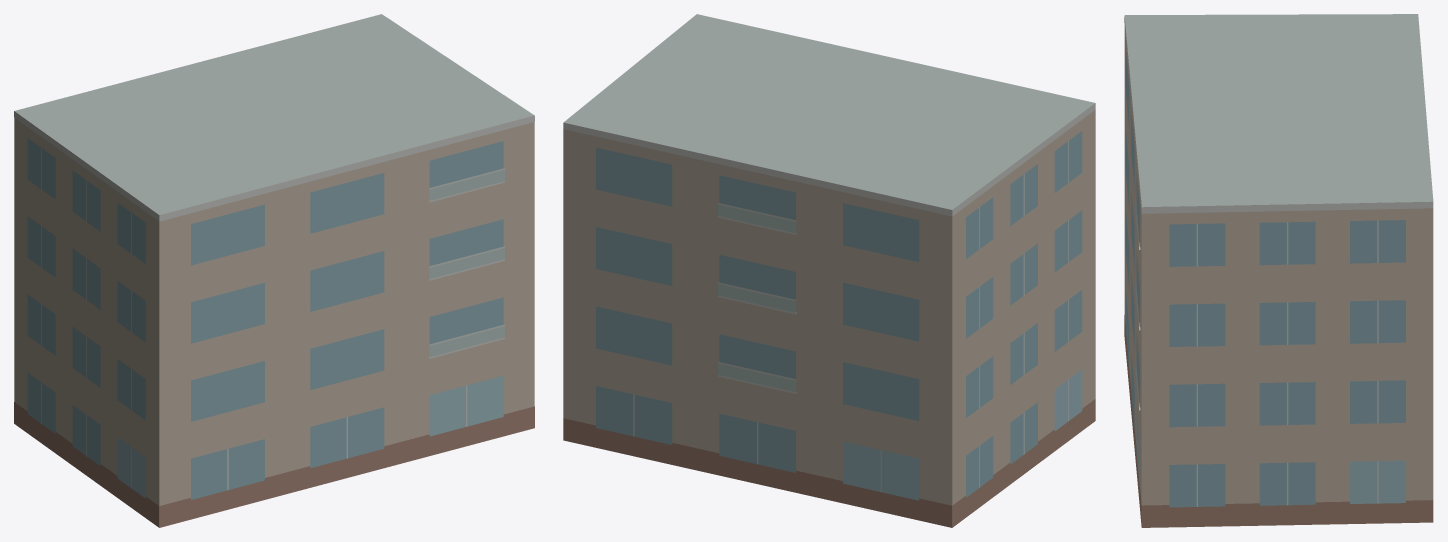
File: survey-upis-32708723.glb
3 views of the same model, side by side, from view 1: azimuth 30°, elevation 25°; view 2: azimuth 150°, elevation 25°; view 3: azimuth 270°, elevation 25° (orthographic). The views are drawn at different scales.
Parts seen in each view (by area): view 1: survey-upis-32708723.tmp; view 2: survey-upis-32708723.tmp; view 3: survey-upis-32708723.tmp.
Boxes of the visible parts, x1,y1,x2,y2 form: survey-upis-32708723.tmp: (14,14,534,527); survey-upis-32708723.tmp: (563,14,1095,527); survey-upis-32708723.tmp: (1124,14,1433,527).
Bounding box in the file's own units: 15.38 × 11.9 × 10.4.
